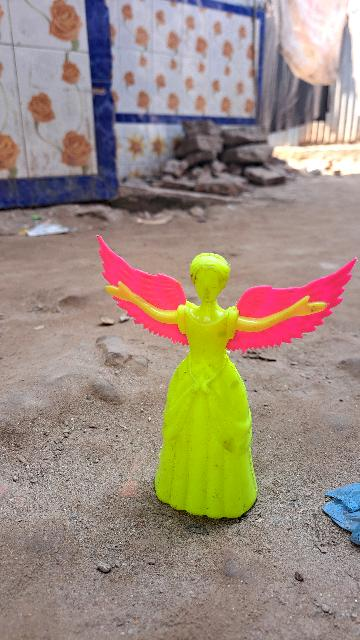hardplastic: (145, 248, 298, 520)
